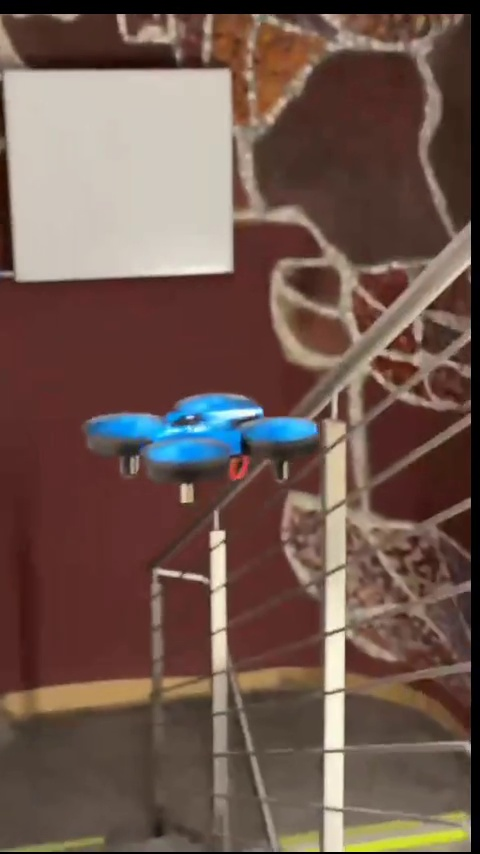drone: (89, 392, 317, 498)
